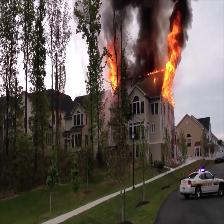fire: (165, 23, 176, 100), (103, 45, 120, 91)
smoke: (138, 3, 159, 69), (174, 0, 191, 22), (115, 3, 125, 39)
